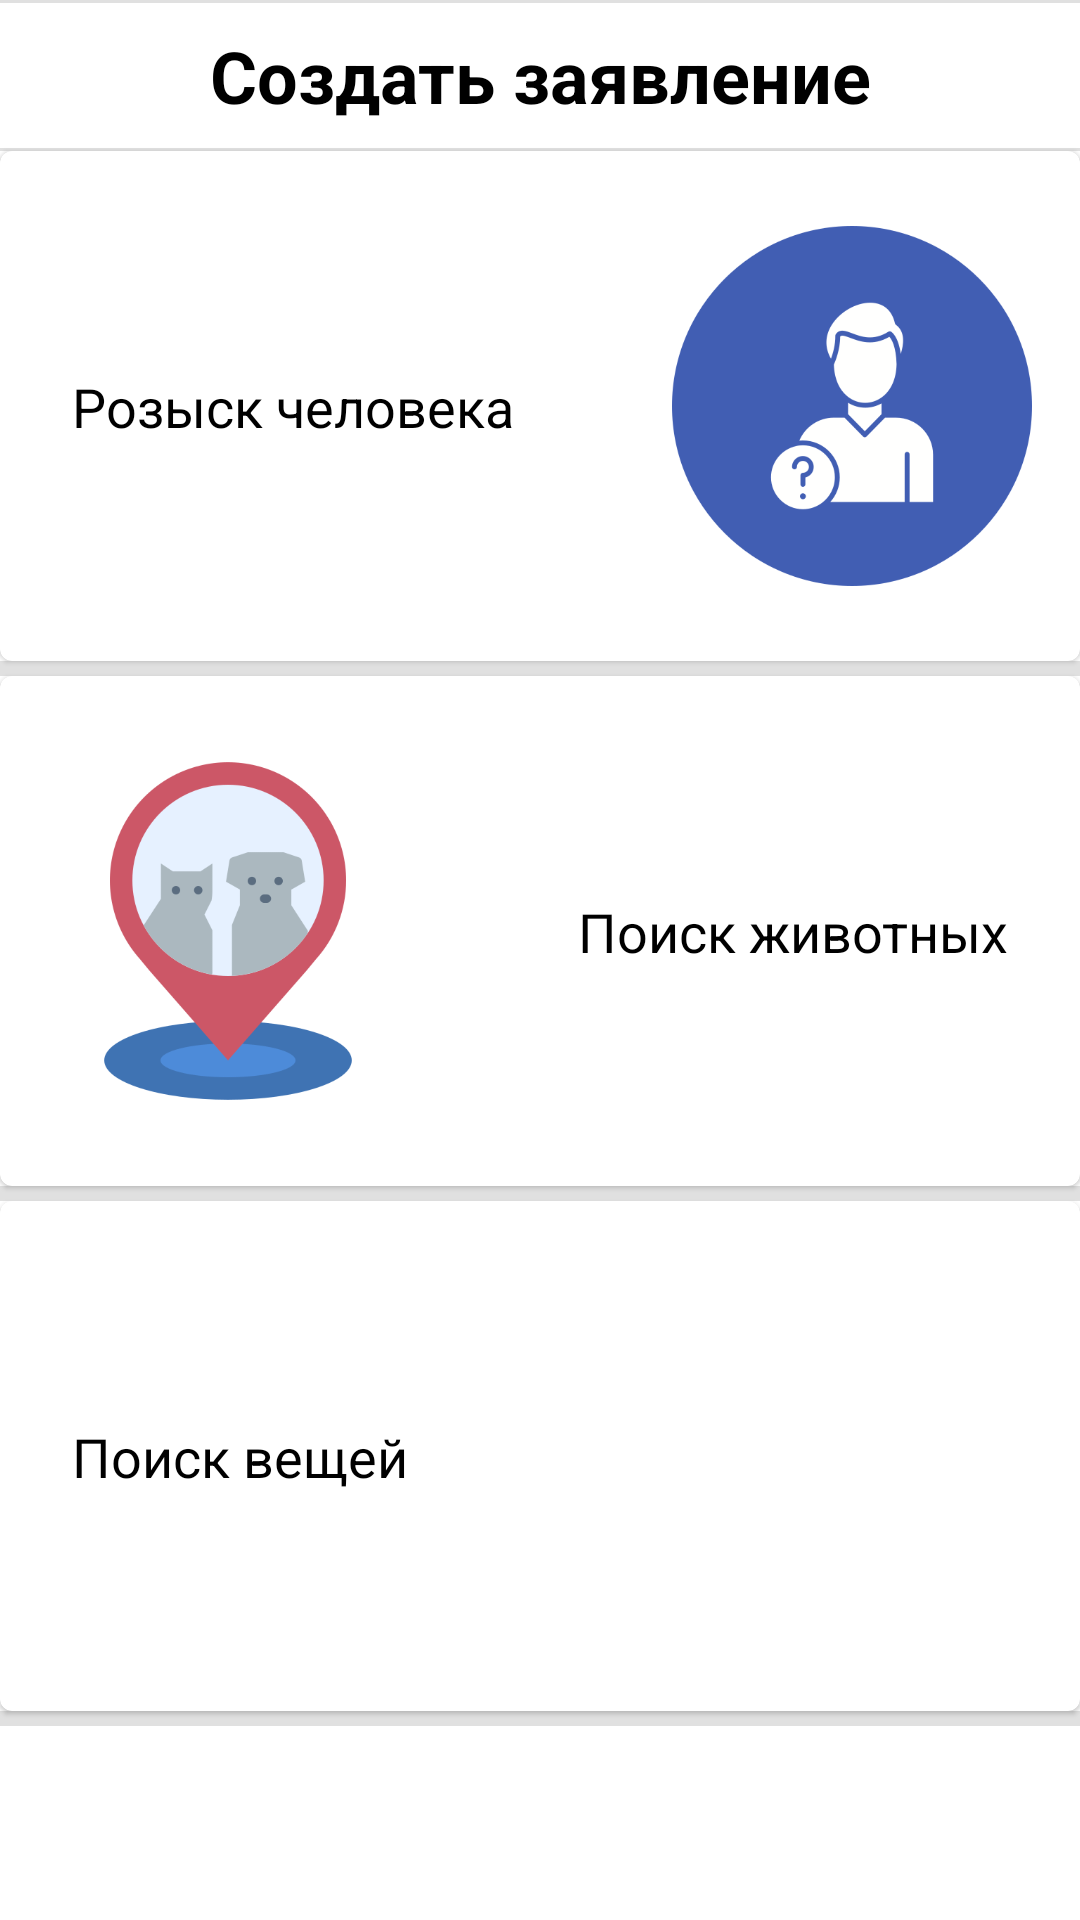

Icons on this 1080 × 1920 Android screen, each with its box as (left=x1, top=y1, right=x2, bottom=y2):
lostanimal: (left=104, top=762, right=352, bottom=1100)
lostpeople: (left=672, top=226, right=1032, bottom=586)
